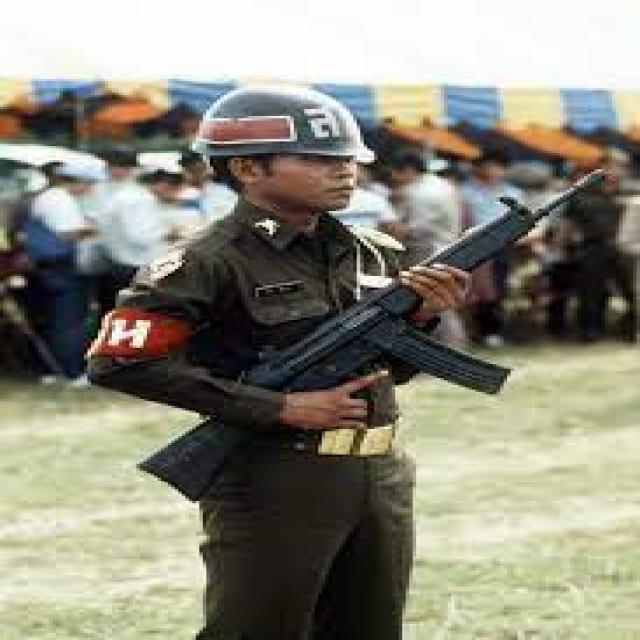m16: (130, 134, 640, 572)
